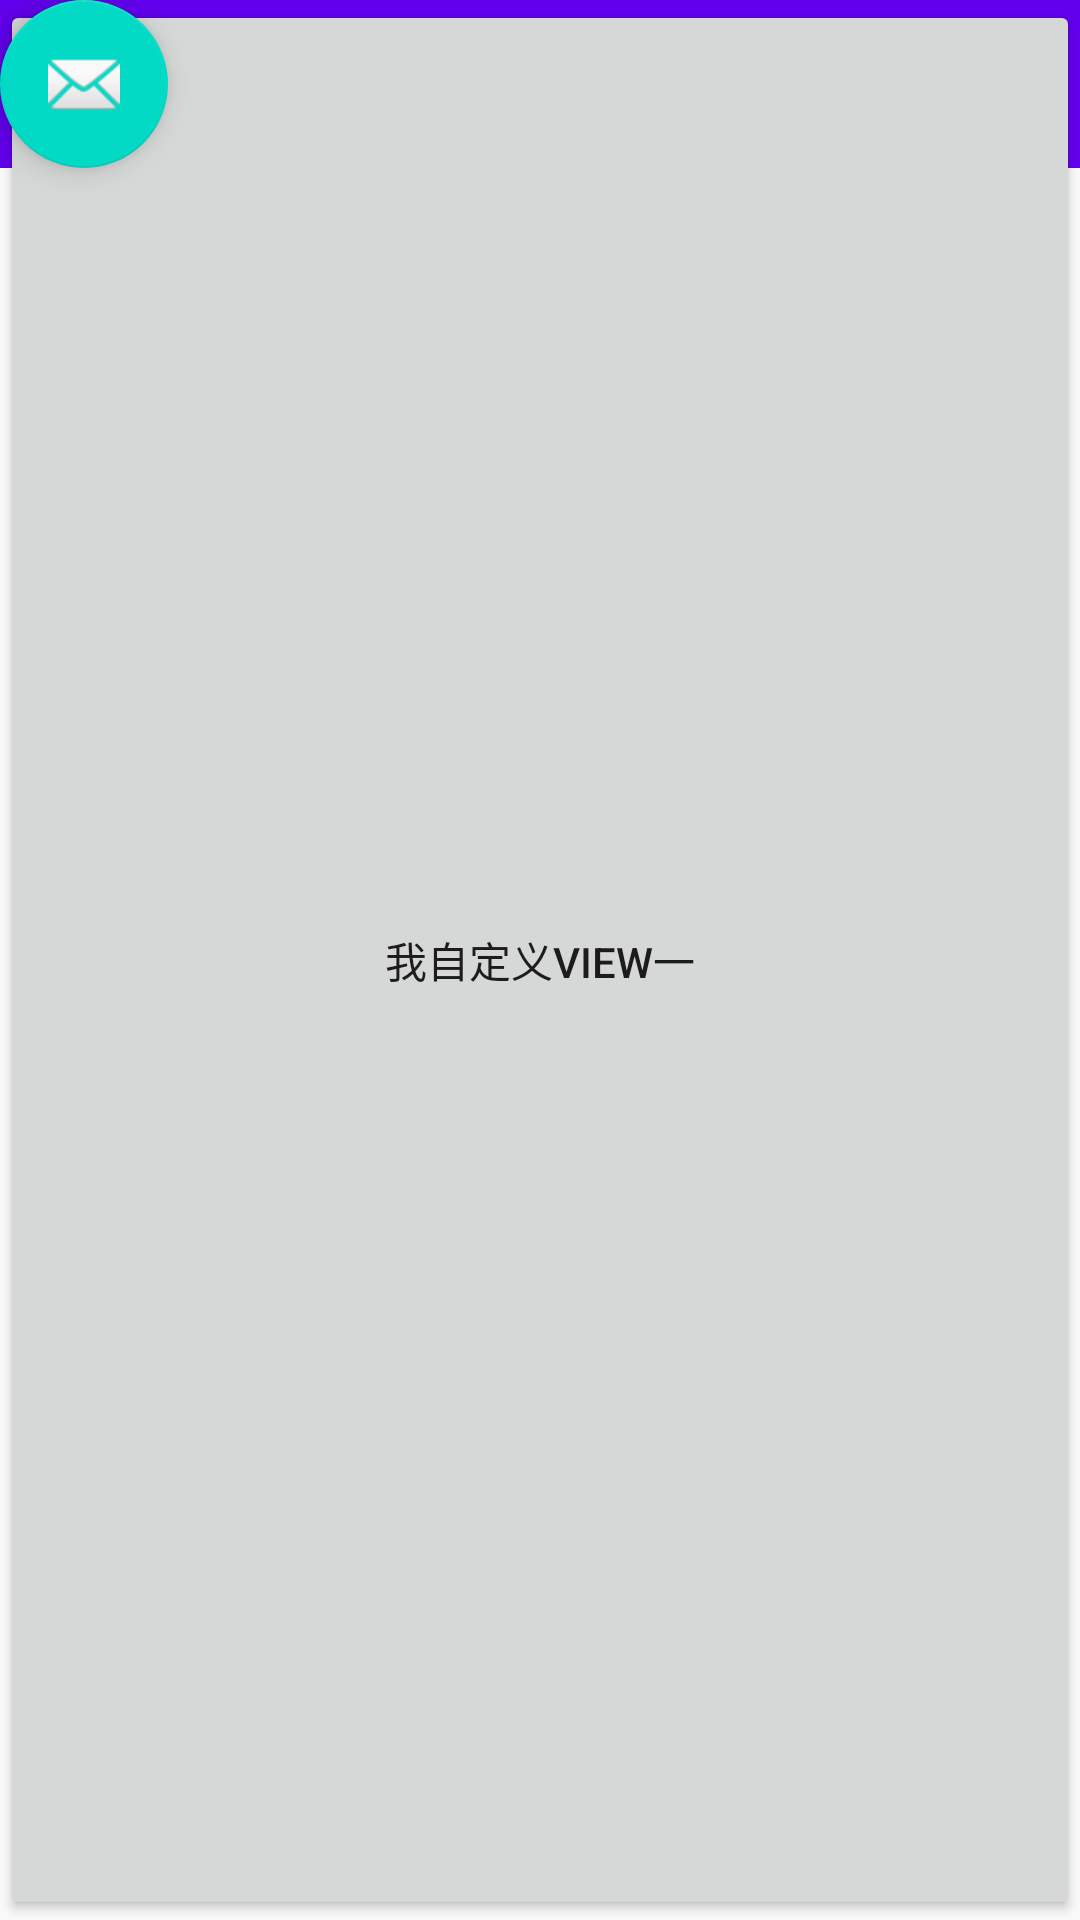

Icon click points for this 1080 x 1920 phone screenshot, format (x=x, y=y):
email: (x=84, y=84)
